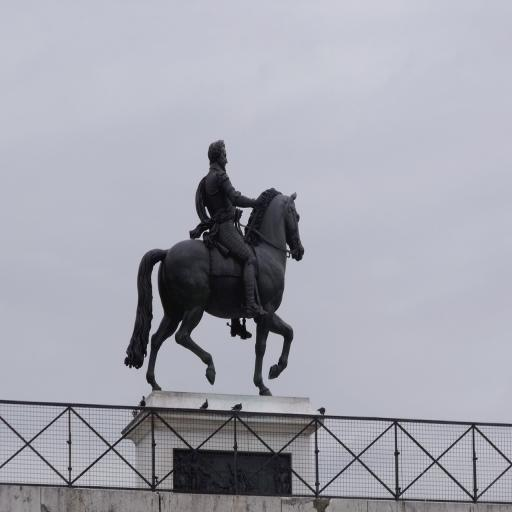horse: (125, 188, 306, 398)
